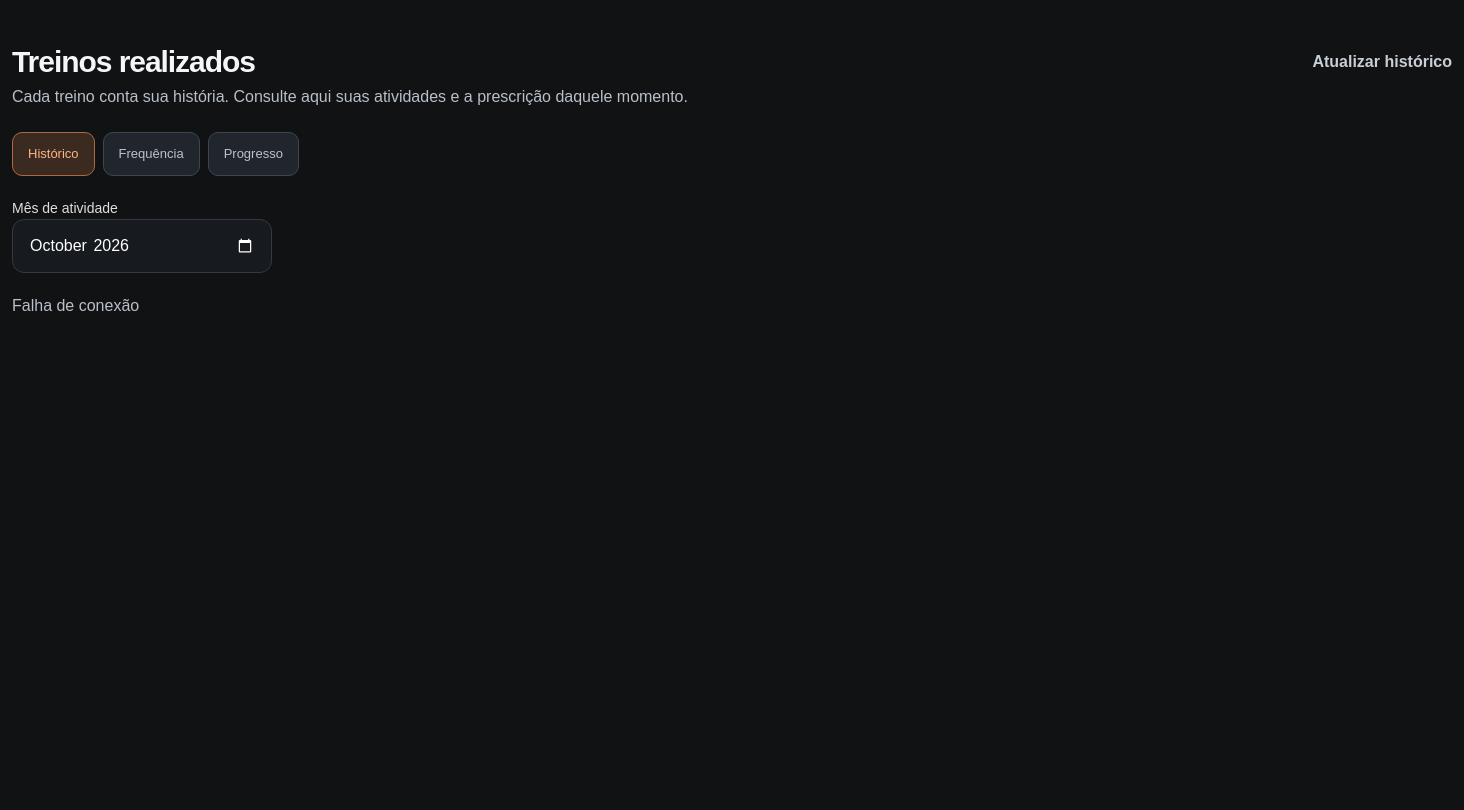
Test: distinguishes errors and empty history and provides retry
Expected: the message "Falha de conexão" is shown, [12,297,139,314]
Expected: the text "Nenhum treino finalizado ainda." is not shown
Click the button "Atualizar histórico" at (1382, 62), box [1312,40,1452,84]
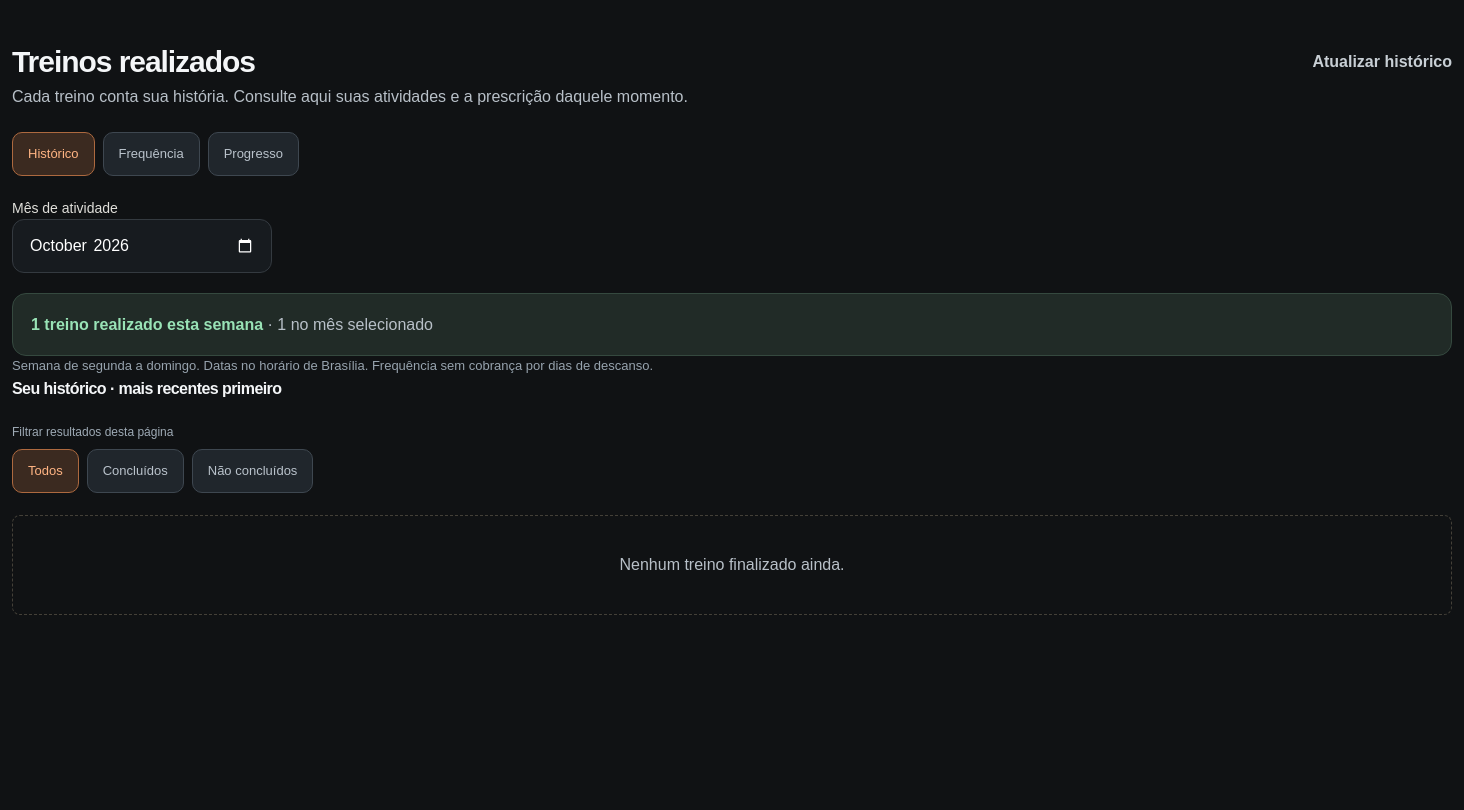
Now the text "Nenhum treino finalizado ainda." is shown, box [620,556,844,573]
